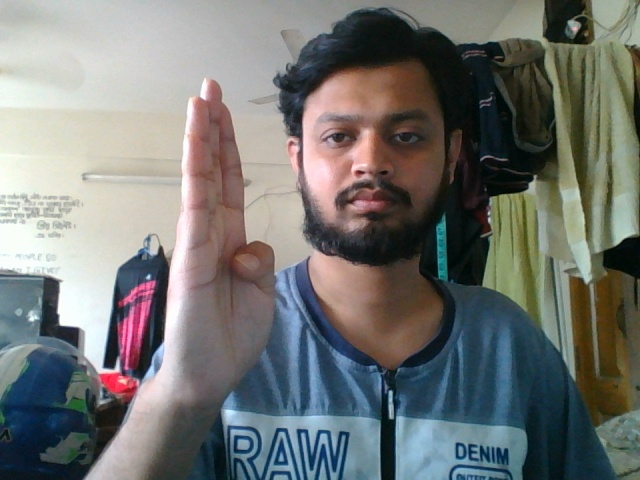ba: (164, 53, 280, 424)
